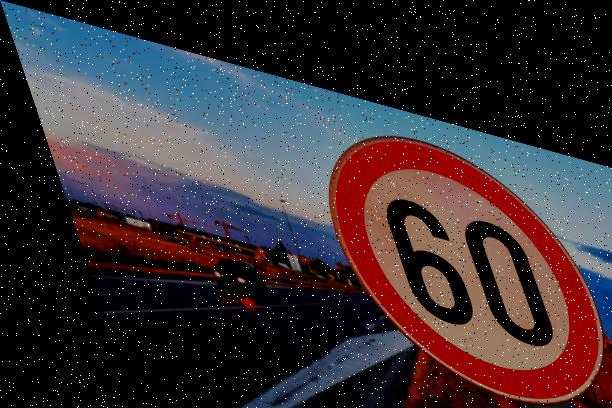Speed Limit -60-: (287, 86, 612, 403)
